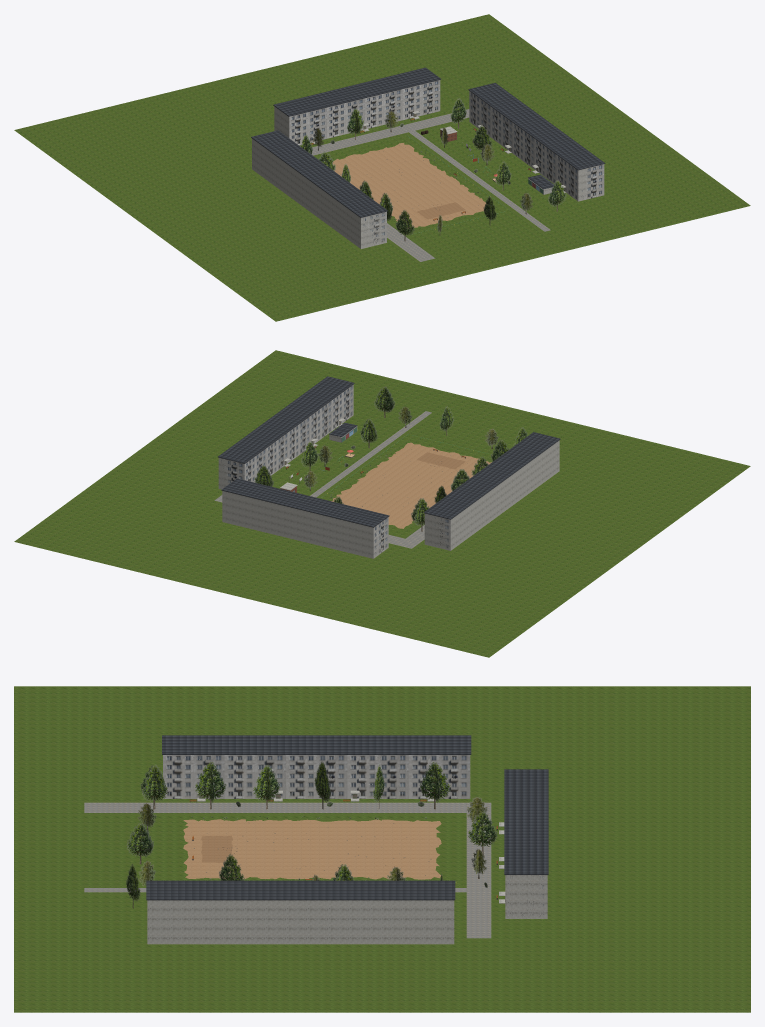
Rendered from dvor.glb.
3 renders of one model, top to bottom at view 1: azimuth 30°, elevation 25°; view 2: azimuth 150°, elevation 25°; view 3: azimuth 270°, elevation 25°, orthographic. The views are drawn at different scales.
Visible parts, largest first — view 1: ground.001, court.001, houseF-front, houseL-body, houseR-front, houseR-roof, houseL-roof, houseF-roof, ground-asphalt2, ground-asphalt3, houseR-end0, ground-asphalt1 (+1 smaller); view 2: ground.001, court.001, houseF-body, houseL-body, houseR-front, houseL-roof, houseR-roof, houseF-roof, ground-asphalt3; view 3: ground.001, houseR-body, court.001, houseL-front, houseR-roof, houseL-roof, houseF-roof, ground-asphalt1, ground-asphalt2, houseF-body, clay-dom.001, tree1-1.001 (+3 smaller).
Part boxes in pixels (x1,y1,x2,y2): ground.001: [14, 14, 750, 321]; court.001: [332, 143, 486, 228]; houseF-front: [289, 80, 440, 145]; houseL-body: [252, 138, 386, 248]; houseR-front: [469, 91, 578, 201]; houseR-roof: [468, 82, 605, 170]; houseL-roof: [251, 130, 387, 217]; houseF-roof: [273, 67, 441, 116]; ground-asphalt2: [310, 109, 469, 155]; ground-asphalt3: [409, 131, 550, 231]; houseR-end0: [581, 164, 604, 200]; ground-asphalt1: [387, 223, 435, 261]; ground.001: [14, 350, 750, 657]; court.001: [331, 442, 491, 528]; houseF-body: [222, 491, 388, 558]; houseL-body: [424, 440, 559, 550]; houseR-front: [244, 384, 353, 482]; houseL-roof: [423, 432, 560, 519]; houseR-roof: [218, 376, 354, 463]; houseF-roof: [221, 478, 389, 527]; ground-asphalt3: [310, 411, 431, 497]; ground.001: [14, 686, 750, 1012]; houseR-body: [147, 900, 454, 944]; court.001: [183, 819, 441, 879]; houseL-front: [163, 755, 470, 798]; houseR-roof: [146, 880, 455, 900]; houseL-roof: [162, 735, 471, 754]; houseF-roof: [504, 769, 548, 874]; ground-asphalt1: [84, 802, 466, 812]; ground-asphalt2: [466, 802, 491, 938]; houseF-body: [505, 875, 547, 918]; clay-dom.001: [201, 835, 232, 862]; tree1-1.001: [194, 762, 226, 809].
Size of the model in its own units: 220 by 15.04 by 210.
Materials: 32 (24 with a texture image).
